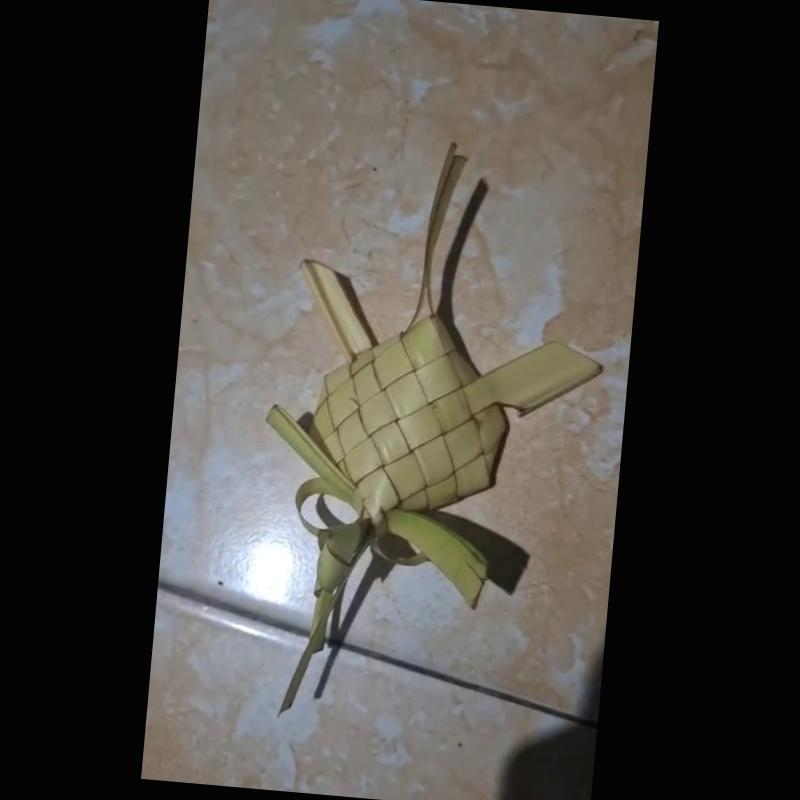Tipat Dampulan: (263, 142, 608, 715)
